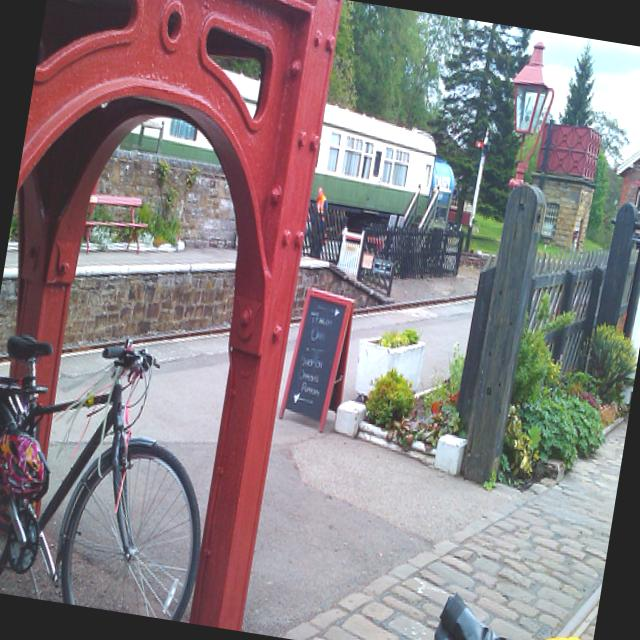Vehicle: (381, 584, 553, 640)
